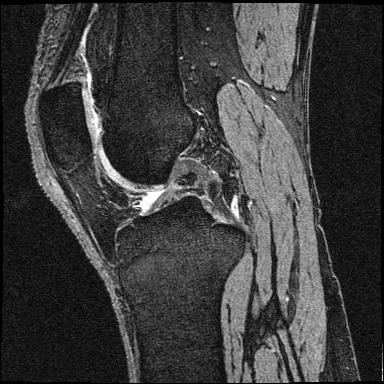SagKneeJointArea: (36, 80, 247, 268)
